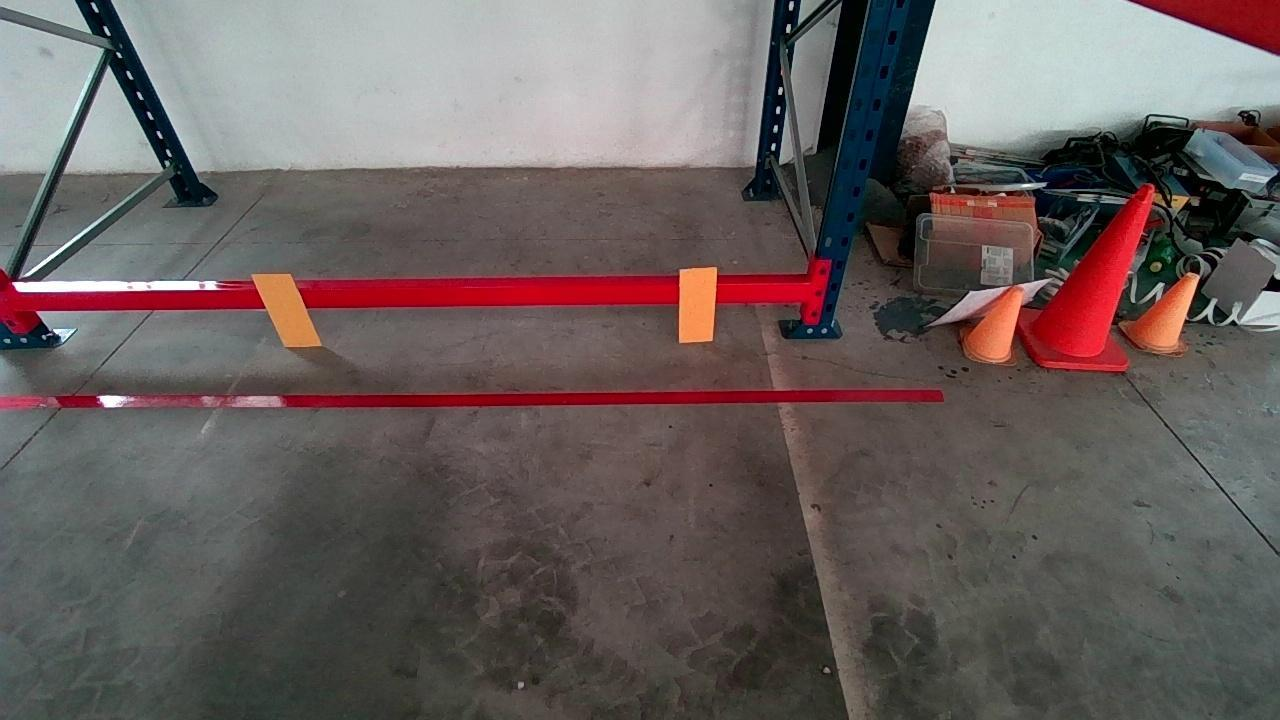h_rack: (15, 276, 810, 315)
orange_strip: (254, 274, 320, 344), (678, 266, 717, 341)
red_line: (0, 388, 939, 408)
